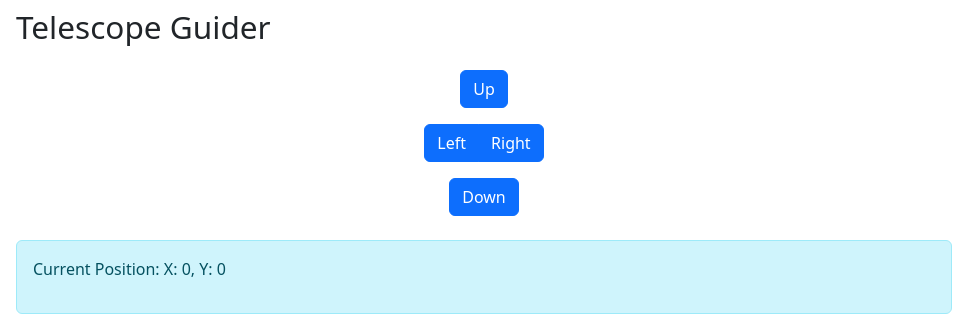
Test: Guider Component › moves telescope down
The image size is (969, 331).
What coordinates should you click on to do the following:
click the button "Down"
I would click on:
 (484, 197)
Its box is [449,178,519,216].
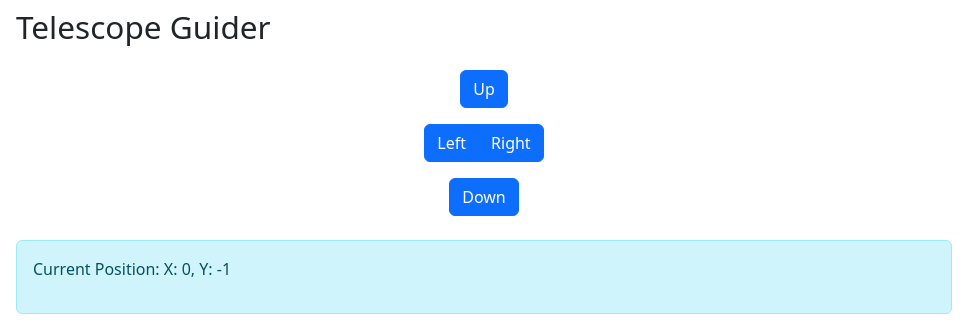
Expected: the text "Current Position: X: 0, Y: -1" is shown, [33,258,231,280]
